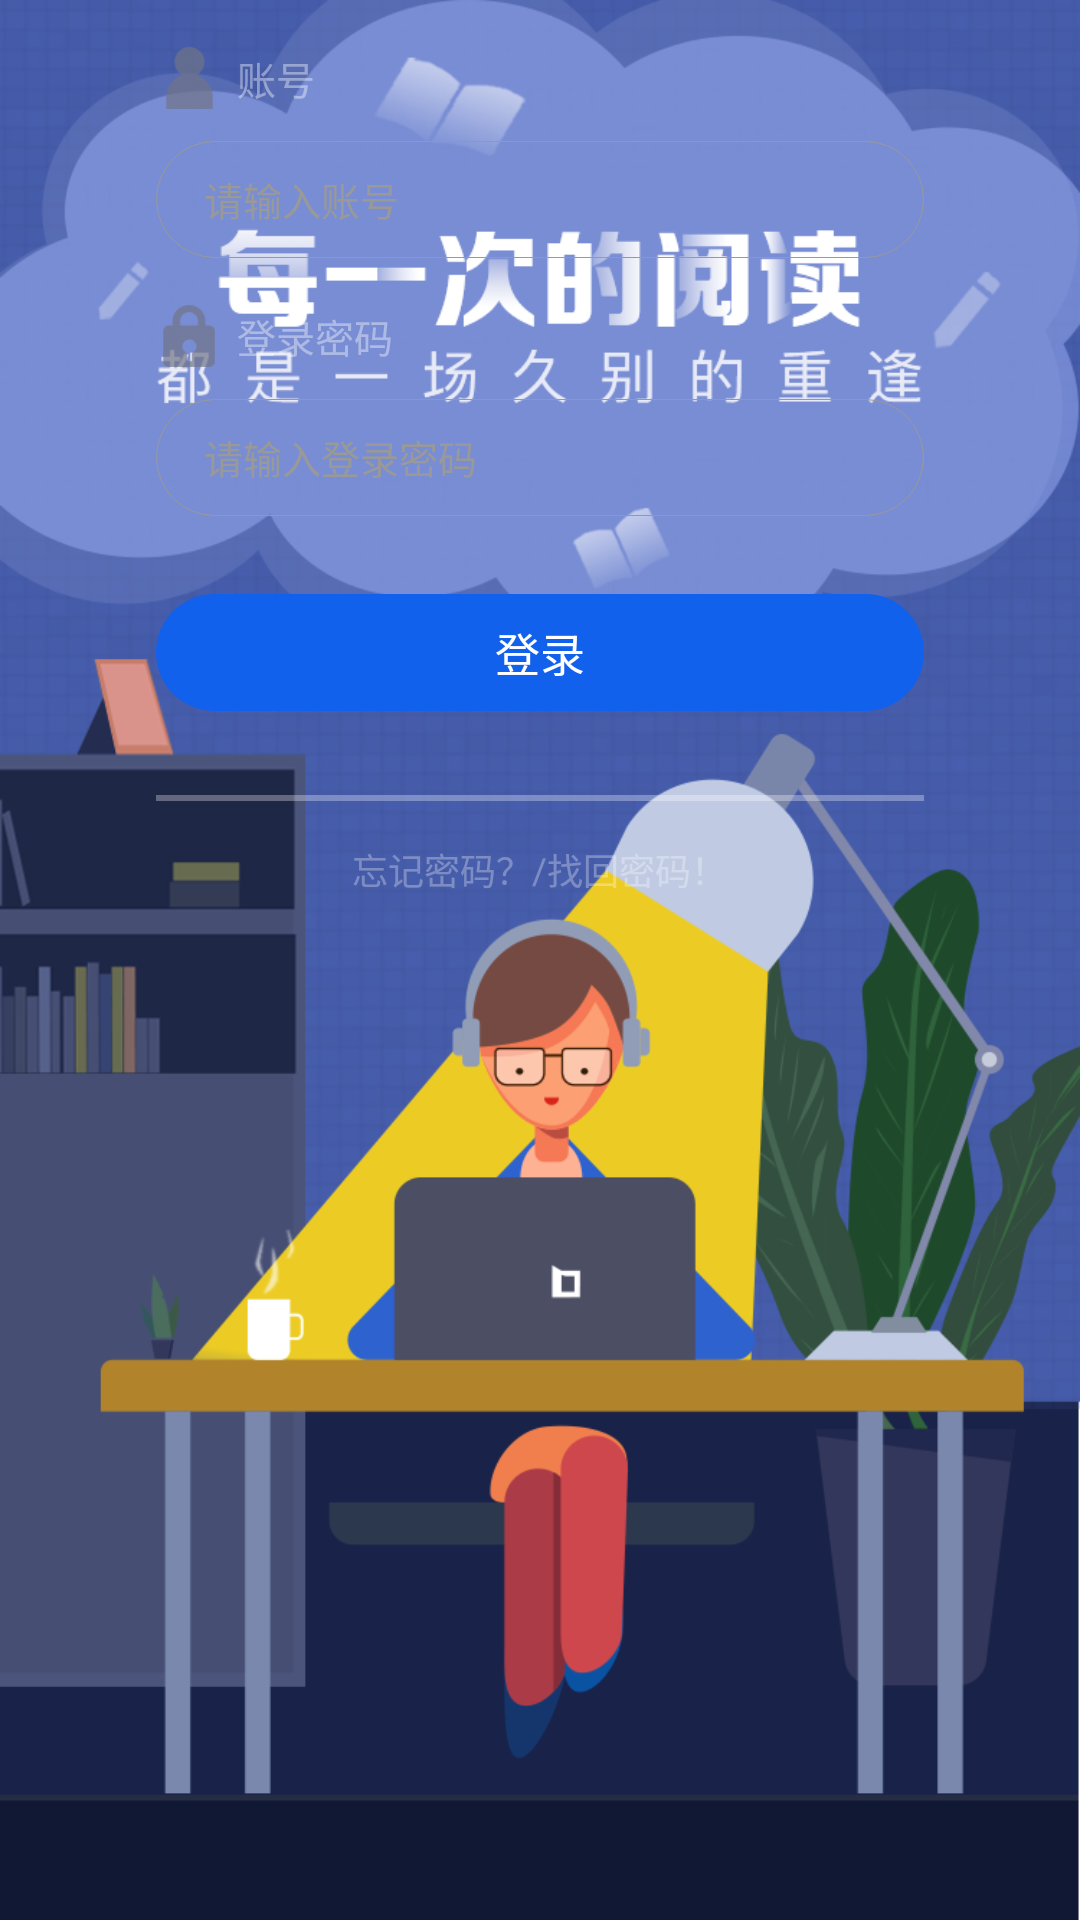

Where to tap for icons on this 1080×1920 app screen, as [x,y]:
login user: [189,78]
